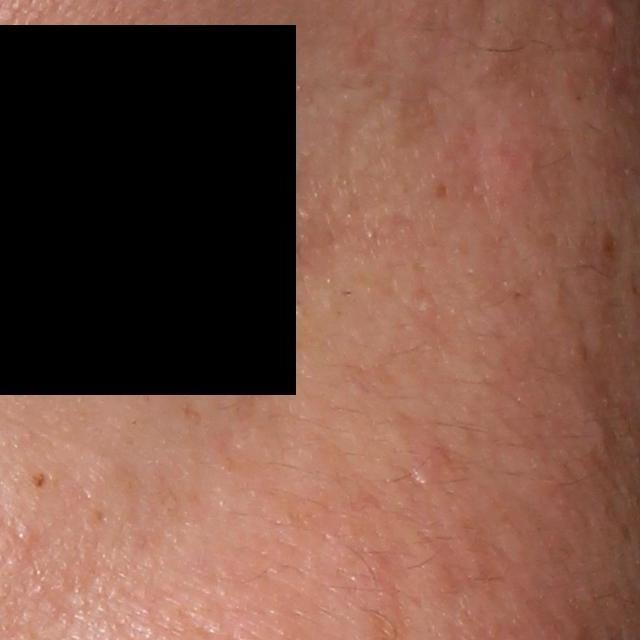nevus: (28, 471, 51, 492)
